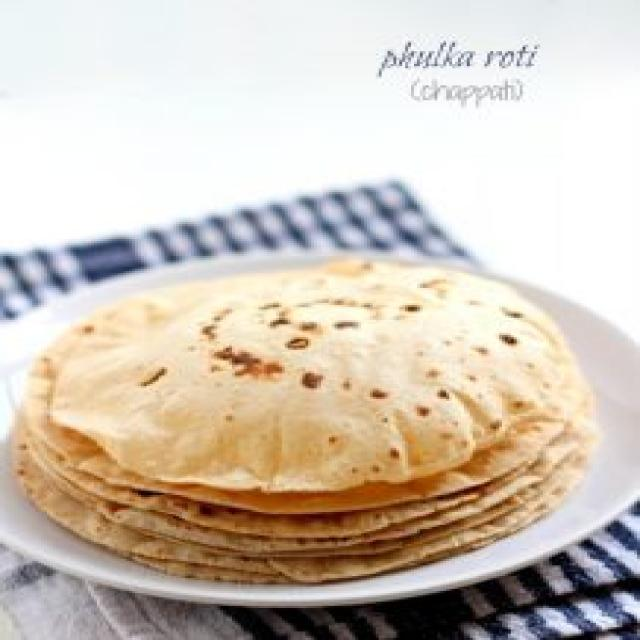ROTI: (23, 260, 593, 484)
